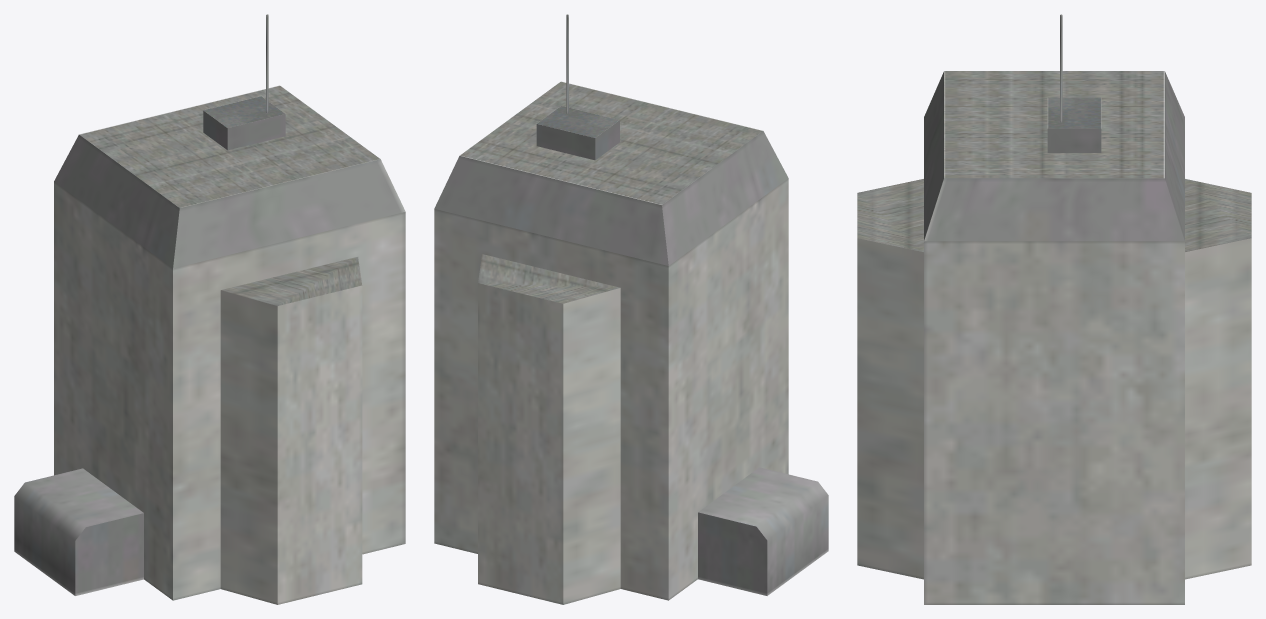
The model's file is thm_corl_imprv_building_s07_r0_mesh_l4.fbx.
3 views of the same model, side by side, from view 1: azimuth 30°, elevation 25°; view 2: azimuth 150°, elevation 25°; view 3: azimuth 270°, elevation 25° (orthographic). The views are drawn at different scales.
Parts seen in each view (by area): view 1: mesh_node; view 2: mesh_node; view 3: mesh_node.
Boxes of the visible parts, box(x1,y1,x2,y2) form: mesh_node: box(14, 14, 405, 604); mesh_node: box(434, 14, 828, 604); mesh_node: box(857, 14, 1251, 604).
Size of the model in its own units: 57 by 90.7 by 59.
